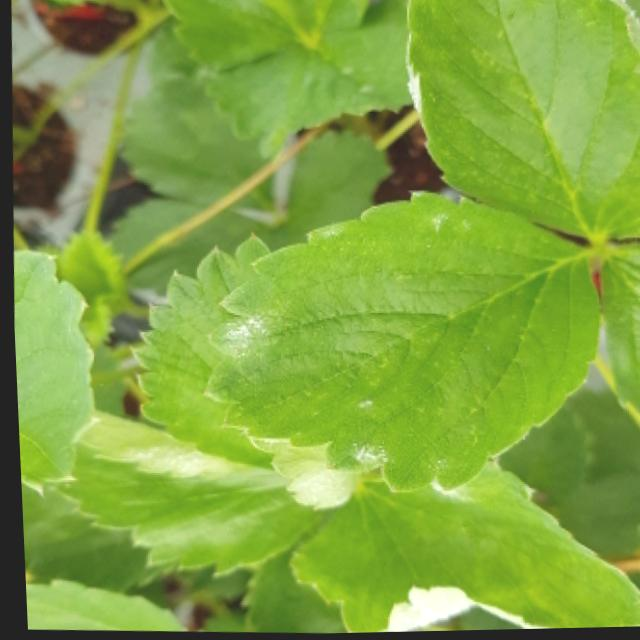Powdery Mildew Leaf: (199, 190, 597, 497), (124, 234, 354, 508), (283, 460, 640, 634), (402, 0, 640, 244), (44, 410, 329, 579)
